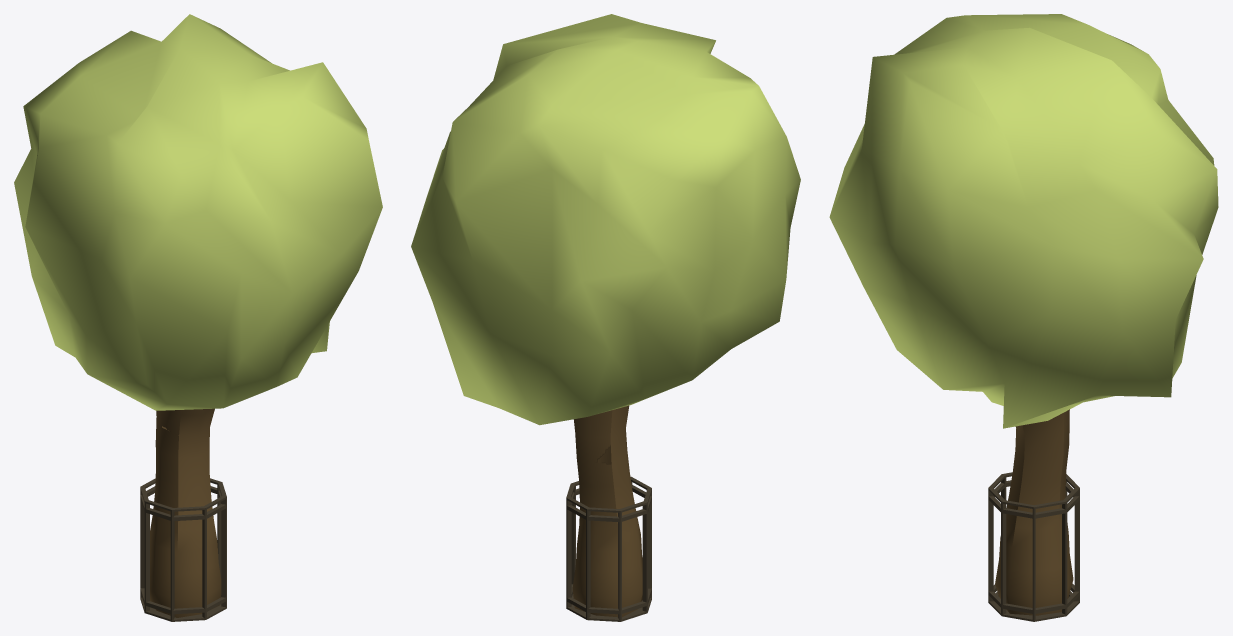
The model's file is Pohon_Asem.fbx.
3 views of the same model, side by side, from view 1: azimuth 30°, elevation 25°; view 2: azimuth 150°, elevation 25°; view 3: azimuth 270°, elevation 25° (orthographic). The views are drawn at different scales.
Parts seen in each view (by area): view 1: Daun, Sekat; view 2: Daun, Sekat; view 3: Daun, Sekat.
Part boxes in pixels (x1=…): Daun: x1=14, y1=14, x2=382, y2=617; Sekat: x1=140, y1=478, x2=226, y2=621; Daun: x1=411, y1=14, x2=800, y2=617; Sekat: x1=566, y1=476, x2=651, y2=621; Daun: x1=829, y1=14, x2=1218, y2=615; Sekat: x1=988, y1=472, x2=1079, y2=621.
Size of the model in its own units: 196 by 326 by 201.
Materials: 1 (1 with a texture image).
